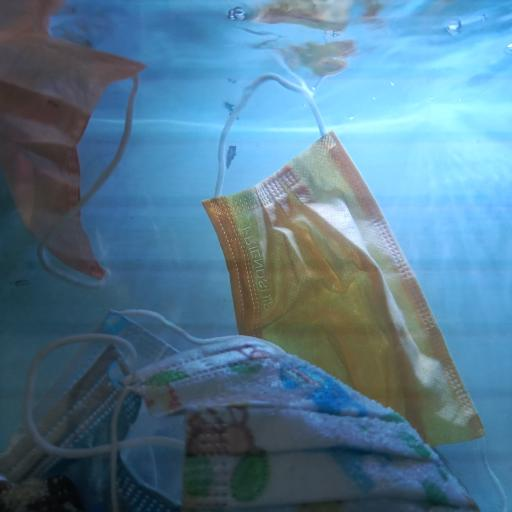mask: (202, 70, 486, 447), (22, 330, 481, 512), (0, 0, 148, 291), (0, 309, 186, 512)
